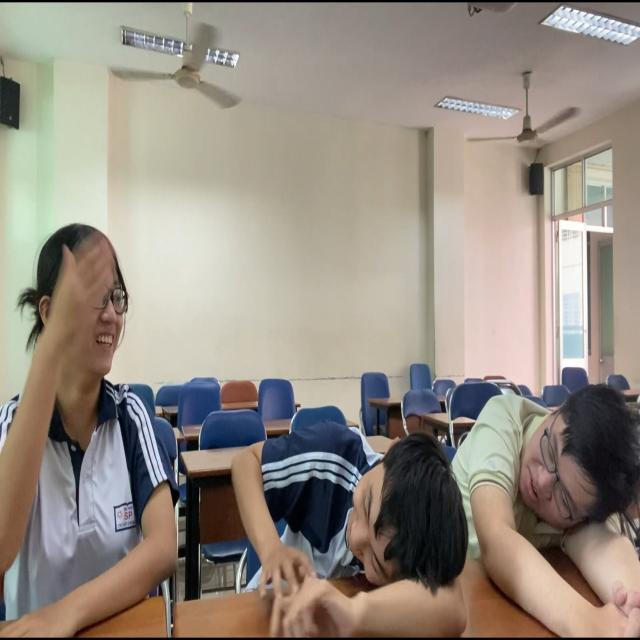raise_hand: (1, 208, 204, 640)
